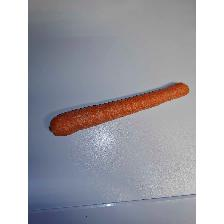Karotte: (49, 82, 189, 138)
